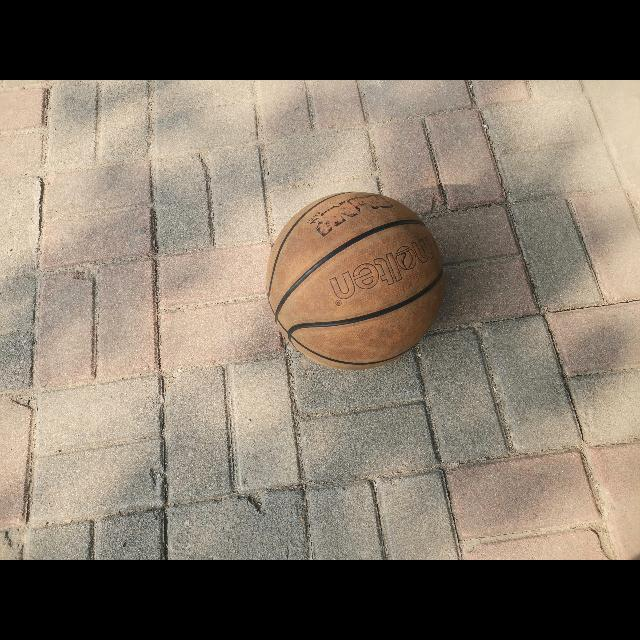basketball: (266, 191, 442, 369)
